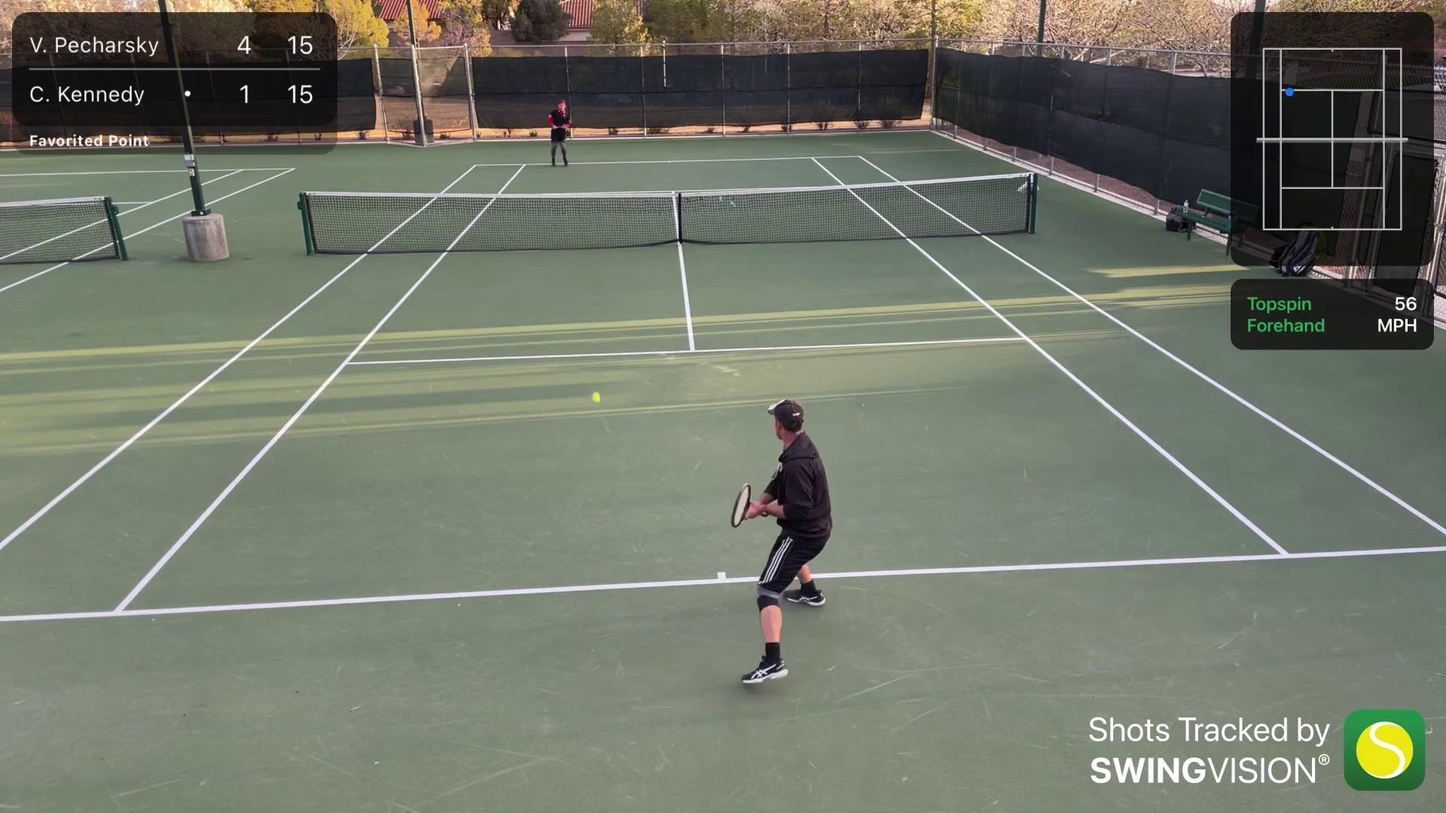ball: (590, 392, 604, 405), (794, 410, 799, 415)
